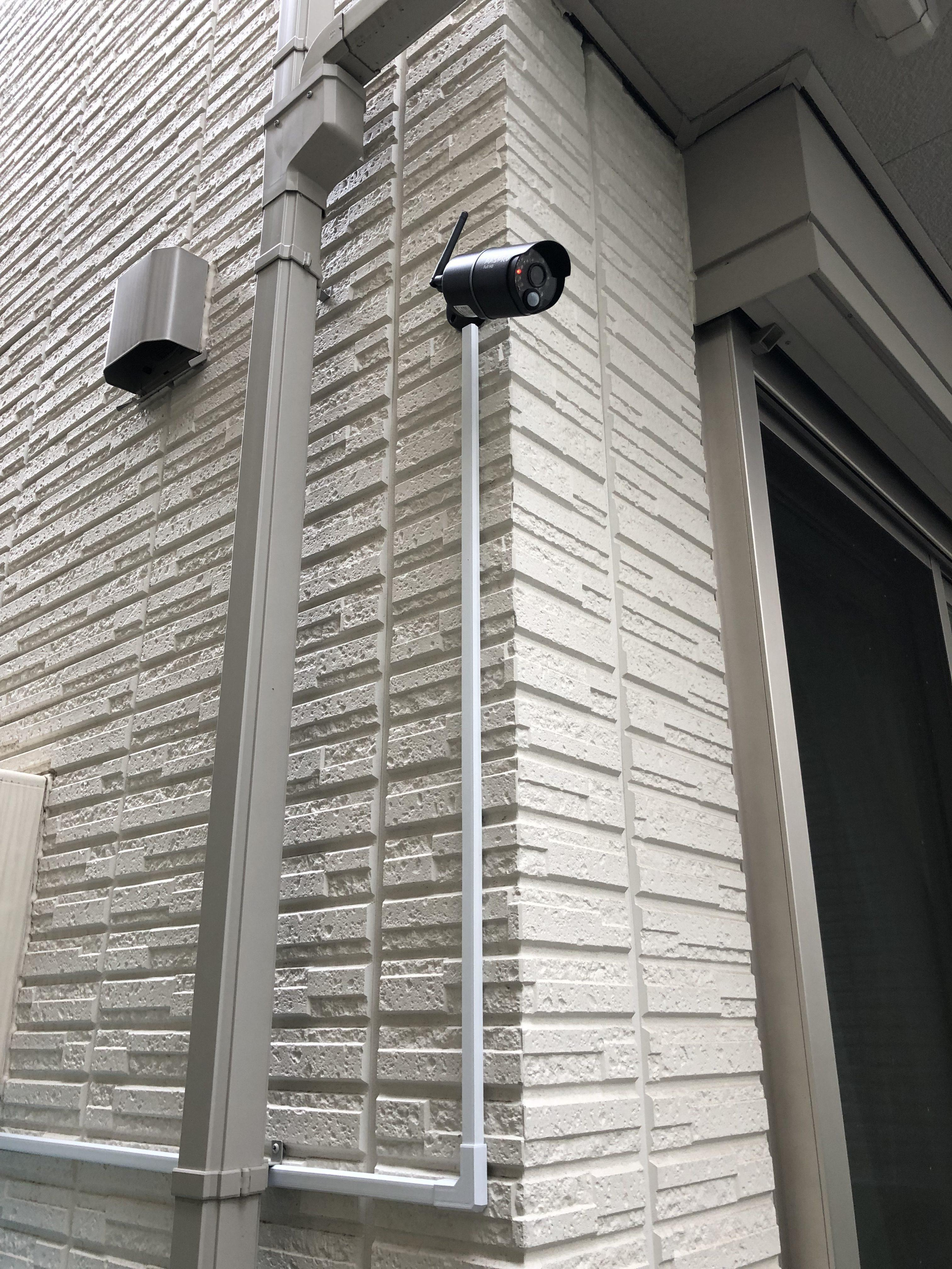tutu: (407, 215, 575, 332)
